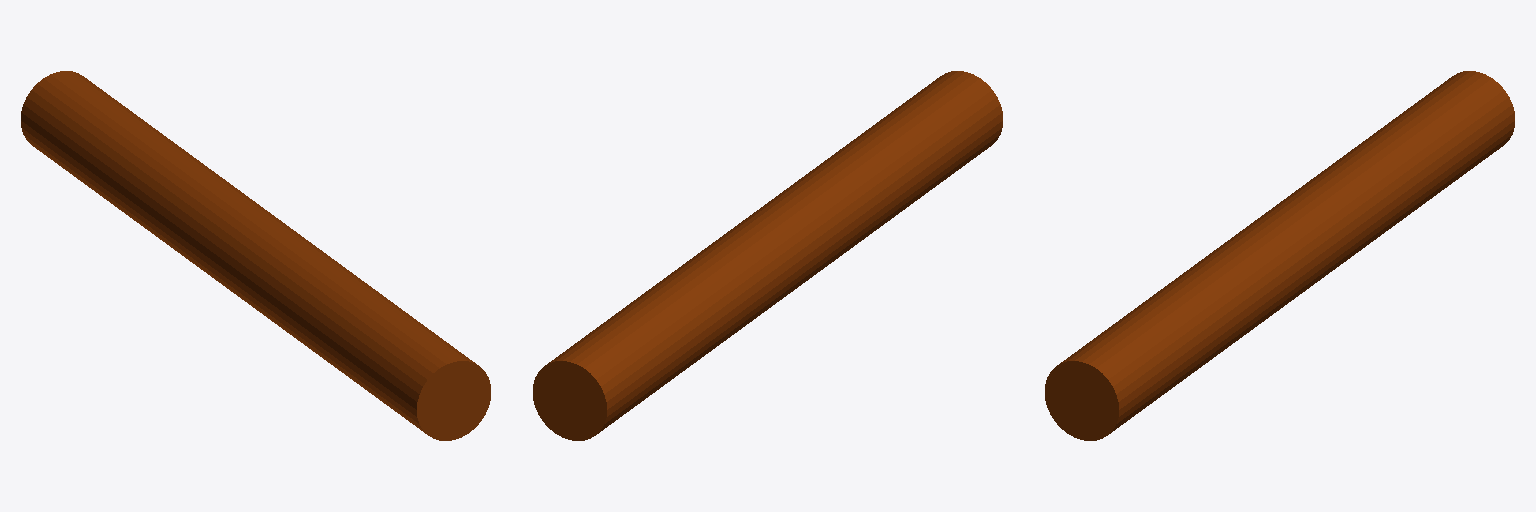
robot.urdf — cylinder:
<?xml version="1.0" ?>
<!-- =================================================================================== -->
<!-- |    This document was autogenerated by xacro from cylinder.xacro                 | -->
<!-- |    EDITING THIS FILE BY HAND IS NOT RECOMMENDED                                 | -->
<!-- =================================================================================== -->
<robot name="cylinder">
  <link name="world"/>
  <link name="base">
    <visual>
      <origin rpy="1.57079633 0 0" xyz="0 0 0"/>
      <geometry>
        <cylinder length="7.07106781185" radius="0.385"/>
      </geometry>
      <material name="cylinder_material">
        <color rgba="0.545 0.271 0.075 1.0"/>
        <texture filename="../textures/tree_bark.jpg"/>
      </material>
    </visual>
    <collision>
      <origin rpy="1.57079633 0 0" xyz="0 0 0"/>
      <geometry>
        <cylinder length="7.07106781185" radius="0.385"/>
      </geometry>
    </collision>
    <inertial>
      <origin rpy="0 0 0" xyz="0 0 0"/>
      <mass value="1"/>
      <inertia ixx="4.203722916648428" ixy="0.0" ixz="0.0" iyy="4.203722916648428" iyz="0.0" izz="24.999999999890573"/>
    </inertial>
  </link>
  <joint name="base_joint" type="fixed">
    <parent link="world"/>
    <child link="base"/>
    <origin rpy="0 0 0" xyz="0.0 0.0 0.0"/>
  </joint>
</robot>

--- What the picture shows (computed from the rendered views, not written in the file) ---
Views: 3 orthographic renders of the robot side by side, from view 1: azimuth 30°, elevation 25°; view 2: azimuth 150°, elevation 25°; view 3: azimuth 330°, elevation 25°.
Model cylinder with 2 links and 1 joints (1 fixed), rooted at world, posed all joints at 0.
Visible links, largest first — view 1: base; view 2: base; view 3: base.
Link boxes in pixels (<box>): base: <box>21,71,490,440</box>; base: <box>533,71,1002,440</box>; base: <box>1045,71,1514,440</box>.
Size in the robot's own frame: 0.77 by 7.07 by 0.77 metres.
Geometry: primitives only (box / cylinder / sphere), no mesh files.
